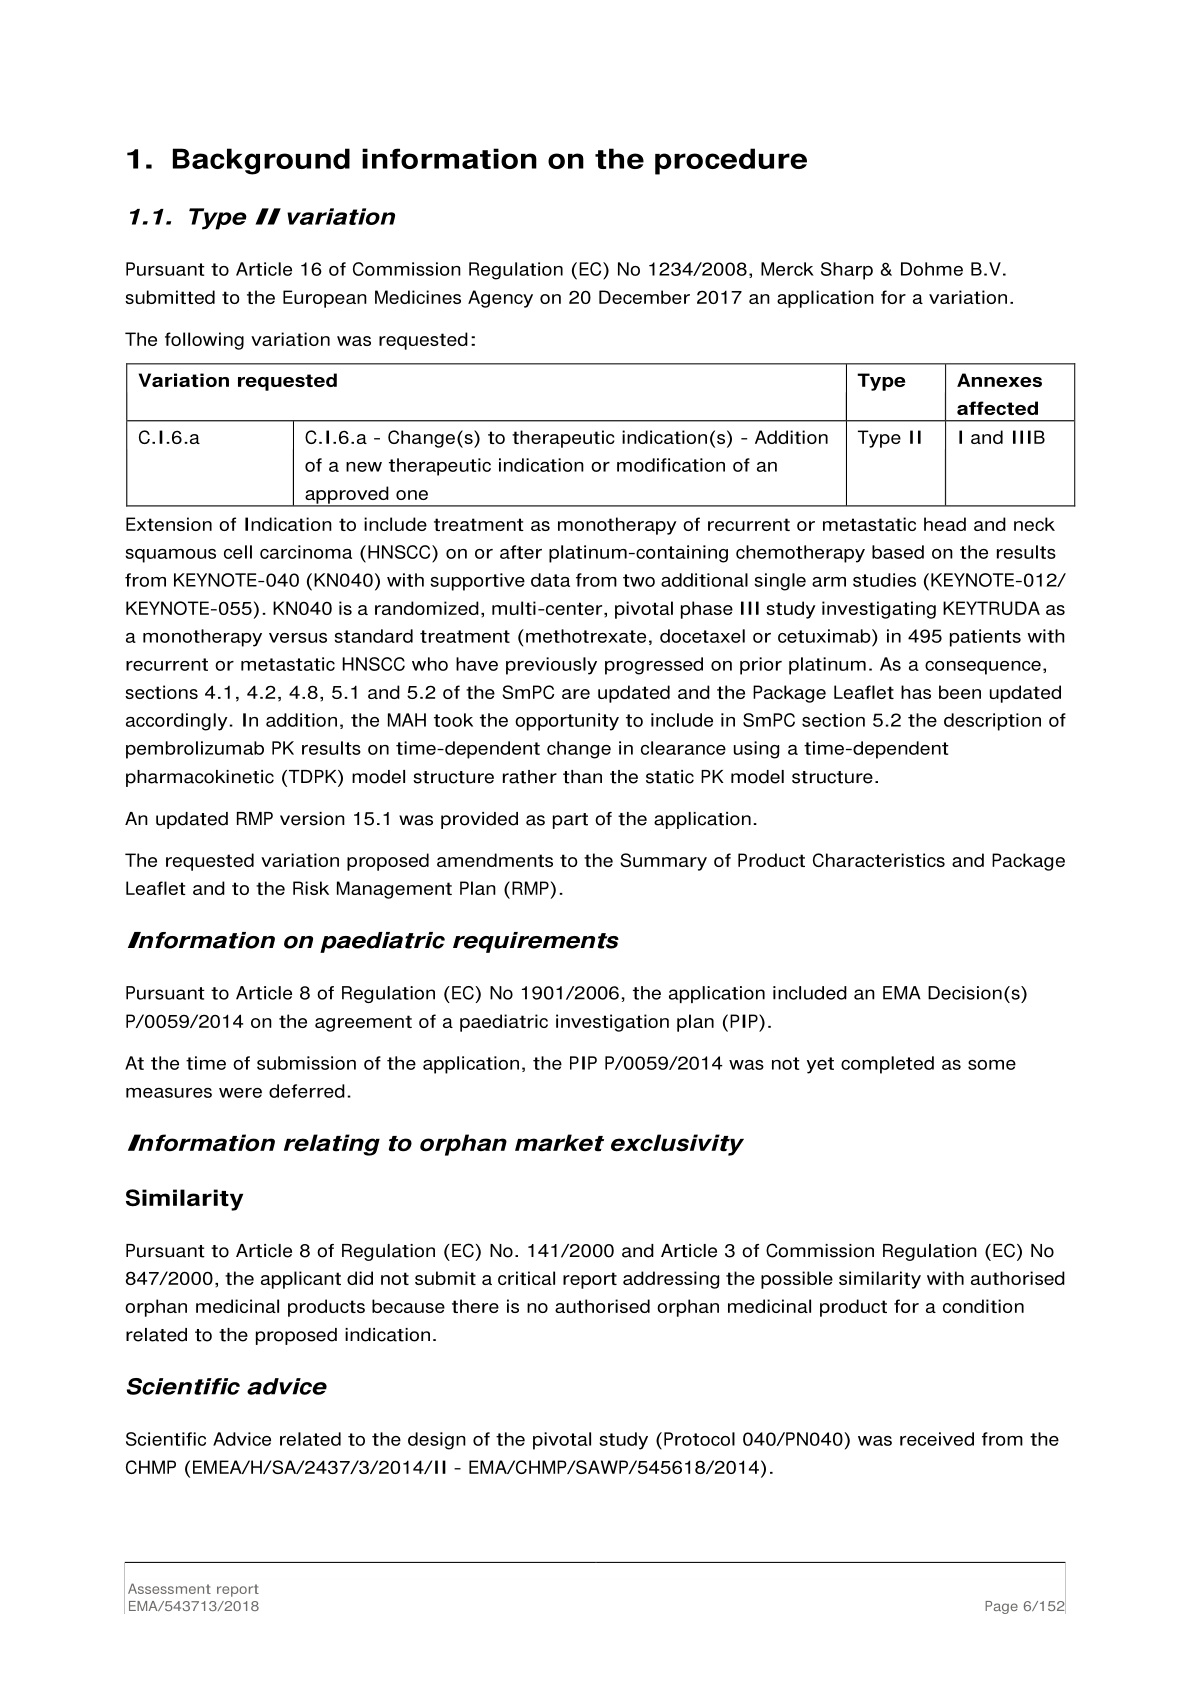merged_cells: (125, 362, 1075, 507)
